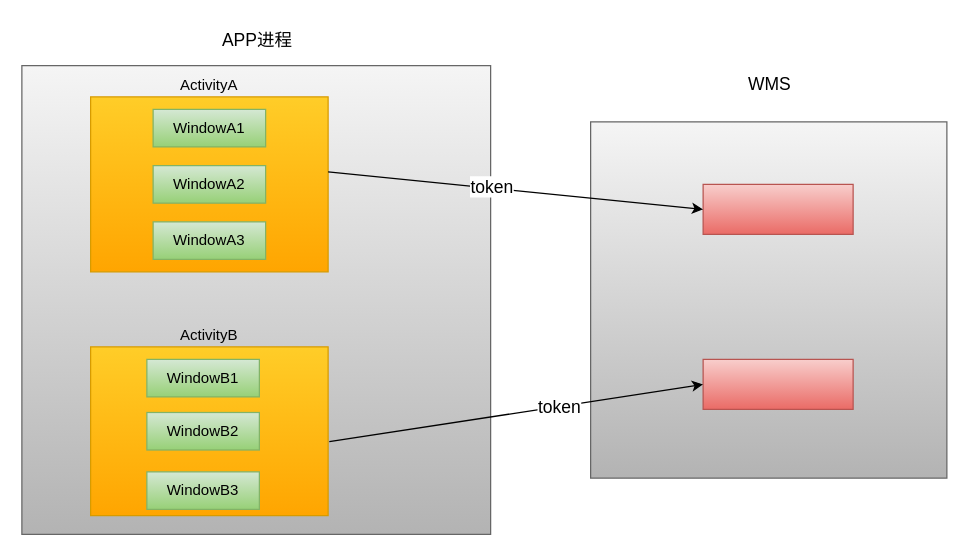
The diagram is 969 pixels wide and 556 high, and some of its shapes have lost their labels. The shapes that lost their labels are listed below. From the top down, each one's centre as x and y in pixels, then its label:
the point at 777,208: WindowToken_A
the point at 777,383: WindowToken_B
